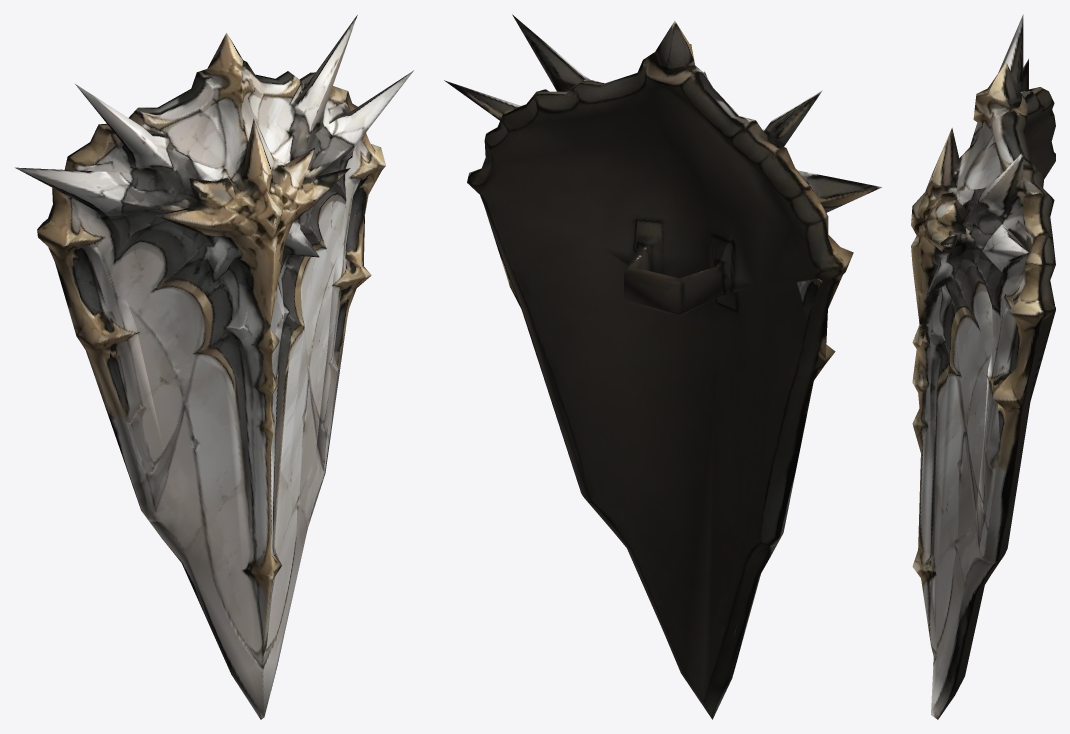
3 views of the same model, side by side, from view 1: azimuth 30°, elevation 25°; view 2: azimuth 150°, elevation 25°; view 3: azimuth 270°, elevation 25° (orthographic). The views are drawn at different scales.
Visible parts, largest first — view 1: tripo_node_9c2a1079-d248-4021-9edc-3224aac127e1; view 2: tripo_node_9c2a1079-d248-4021-9edc-3224aac127e1; view 3: tripo_node_9c2a1079-d248-4021-9edc-3224aac127e1.
Boxes of the visible parts, x1,y1,x2,y2 form: tripo_node_9c2a1079-d248-4021-9edc-3224aac127e1: [15, 15, 413, 719]; tripo_node_9c2a1079-d248-4021-9edc-3224aac127e1: [444, 14, 881, 719]; tripo_node_9c2a1079-d248-4021-9edc-3224aac127e1: [911, 14, 1055, 719].
Size of the model in its own units: 0.6185 by 0.9785 by 0.1953.
Materials: 1 (1 with a texture image).
